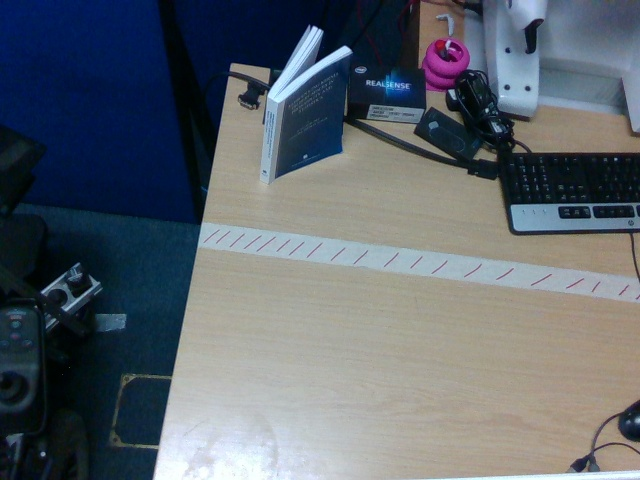book: (257, 25, 353, 188)
